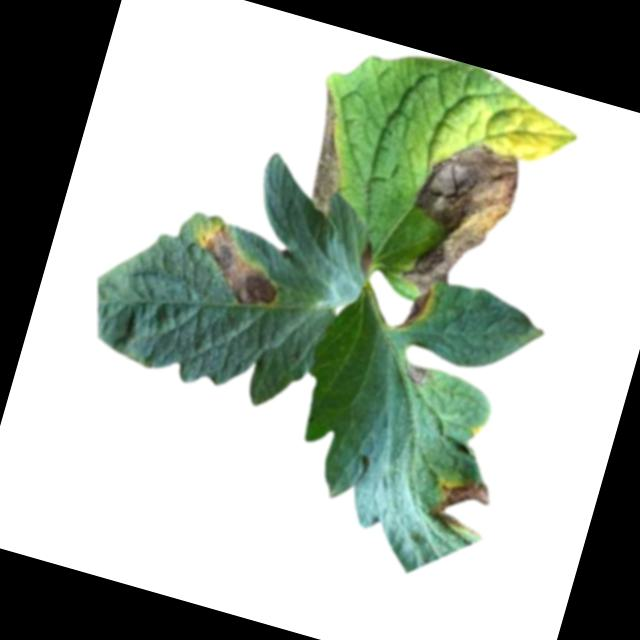Early_blight: (399, 132, 527, 309), (181, 217, 290, 315), (291, 86, 364, 216), (426, 472, 495, 538), (394, 286, 431, 337), (352, 239, 380, 284), (402, 362, 429, 389)
